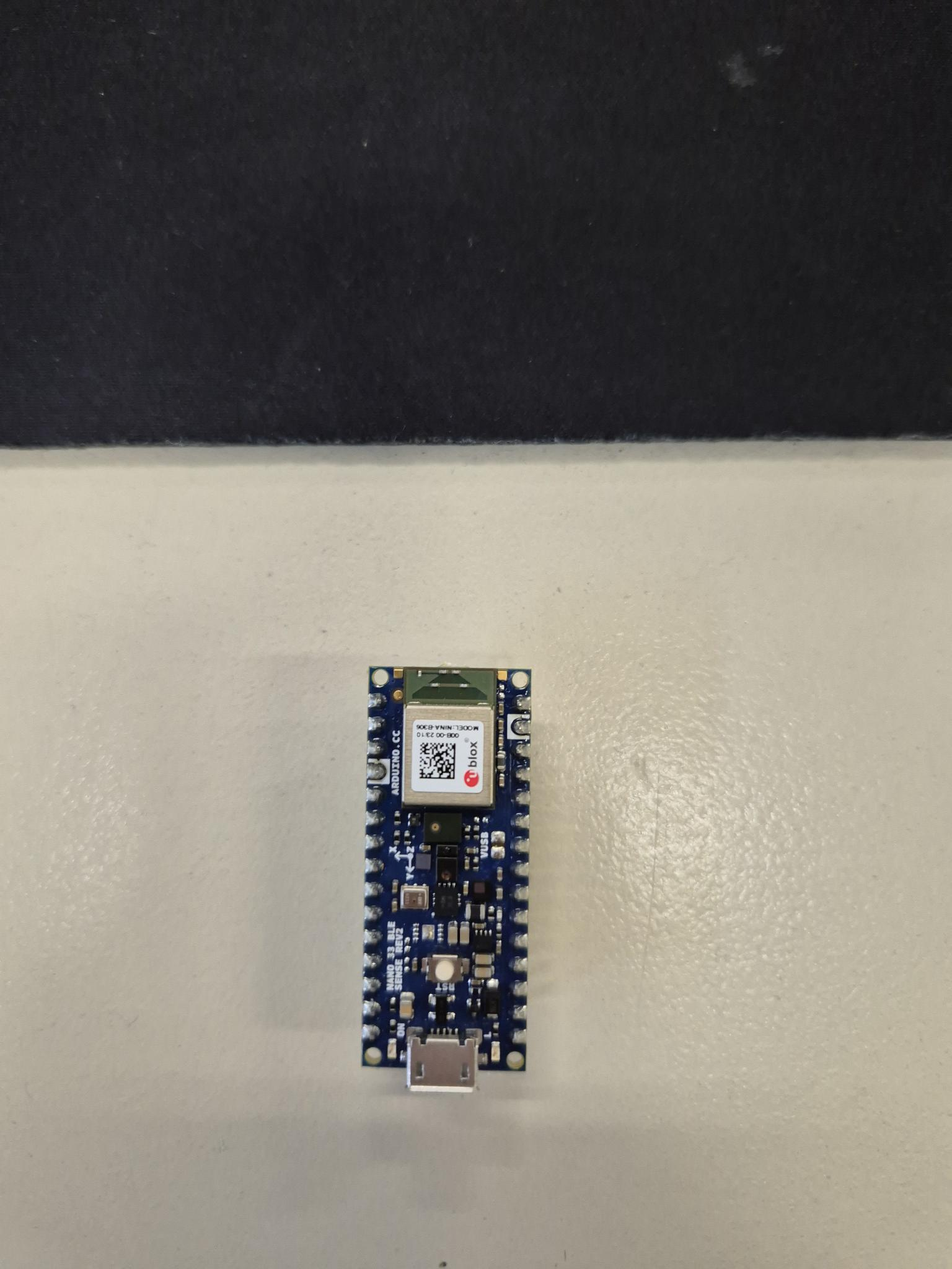arduino-nano-ble-sense: (362, 667, 531, 1090)
